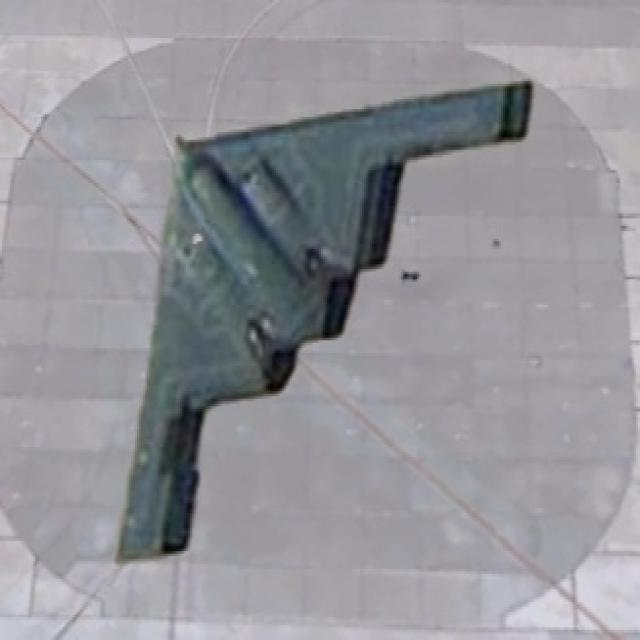B-2_TopDown: (111, 51, 534, 564)
